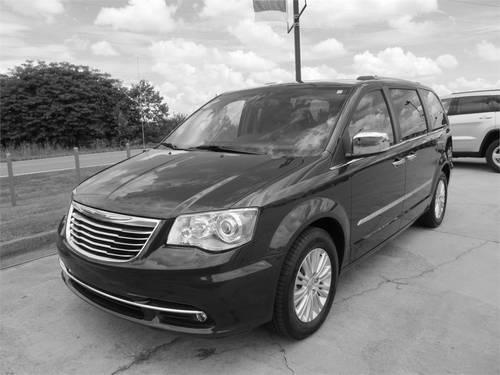car: (53, 77, 455, 343)
